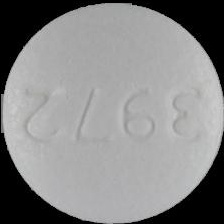43063-485: (0, 0, 224, 224)
